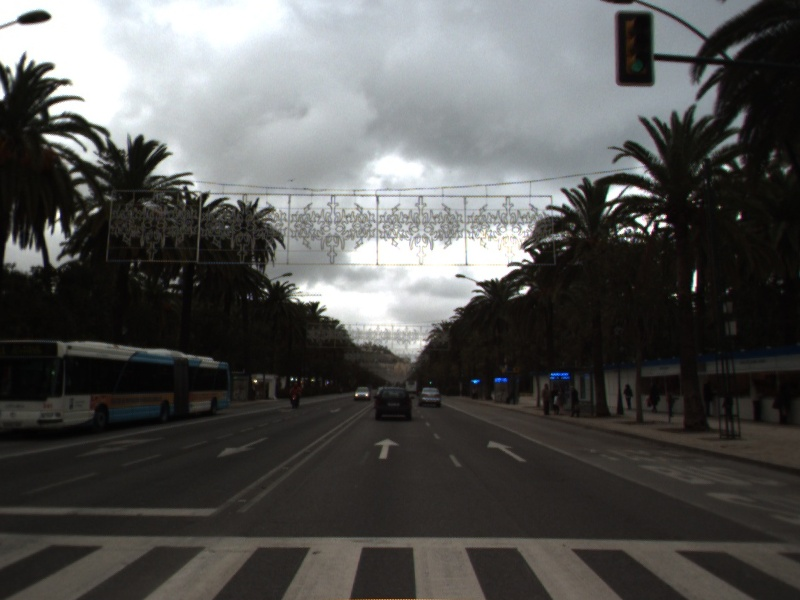STRAIGHT: (485, 438, 529, 464), (372, 436, 402, 461)
